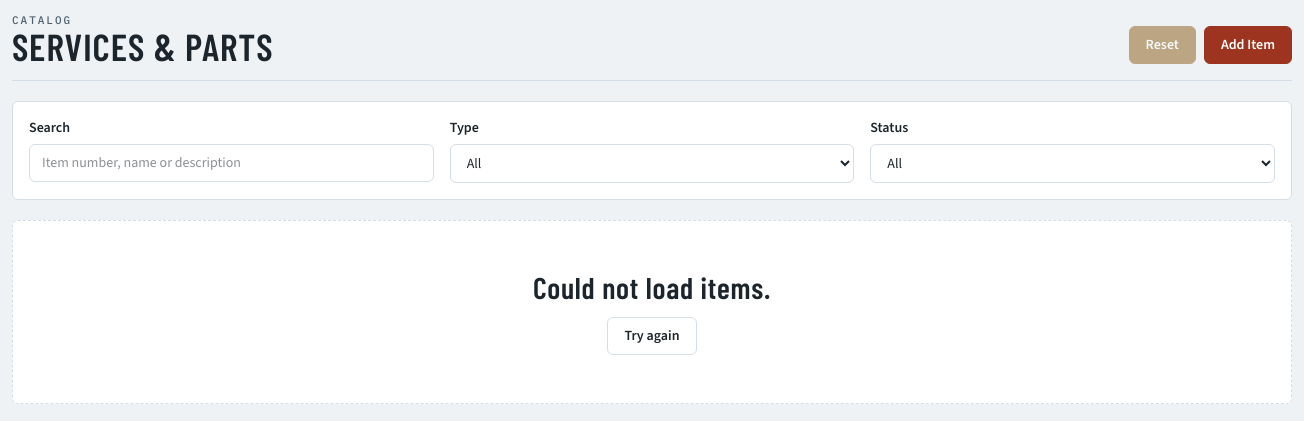
Test: shows a retry when the list fails to load
Expected: the text "Could not load items." is shown, x1=533 y1=269 x2=771 y2=305
Step 1. Click the button "Try again" → (652, 336), box x1=607 y1=317 x2=697 y2=355
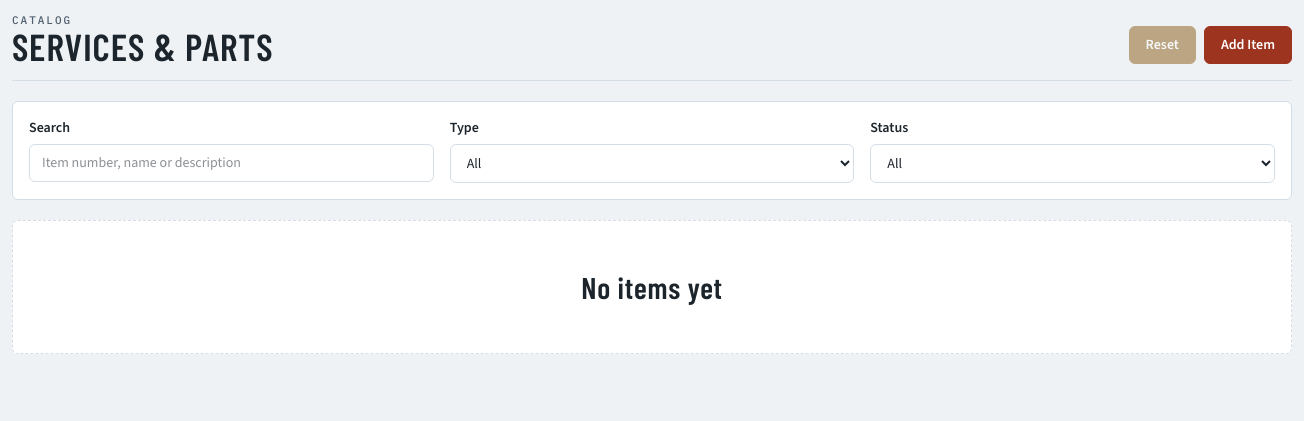
Result: the text "No items yet" is shown at x1=581 y1=269 x2=723 y2=305
